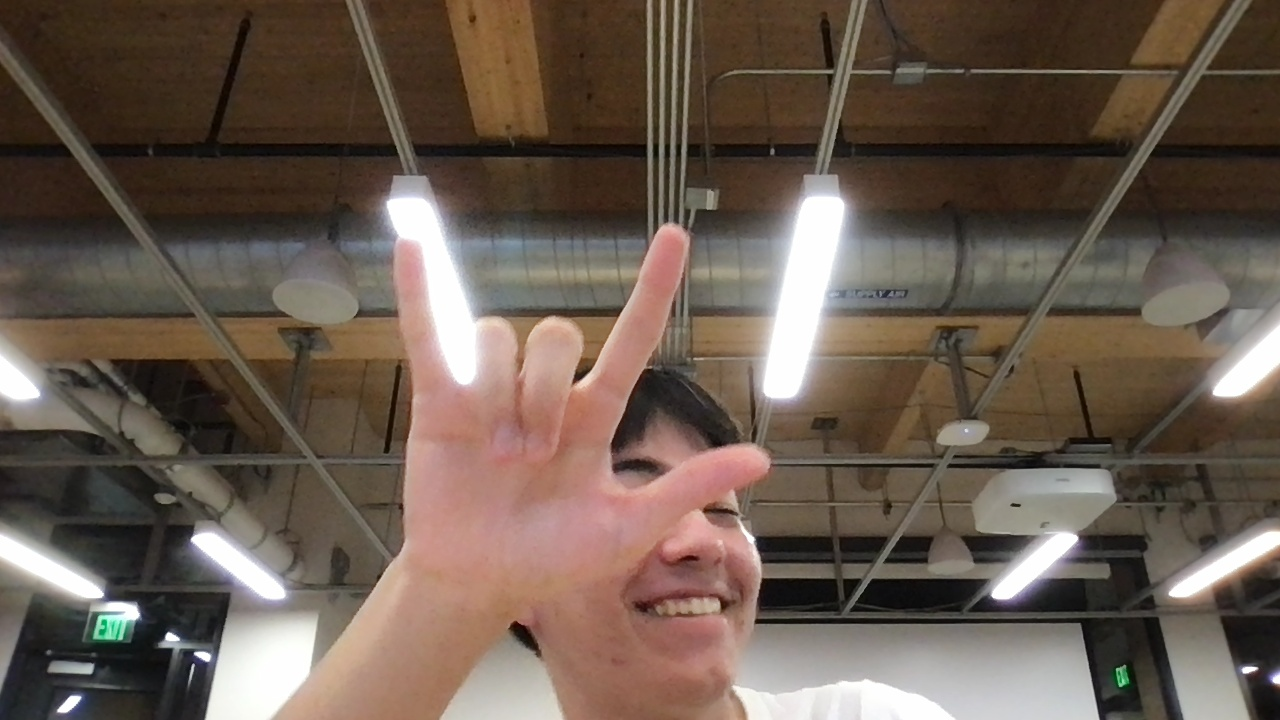I love you: (297, 221, 797, 602)
